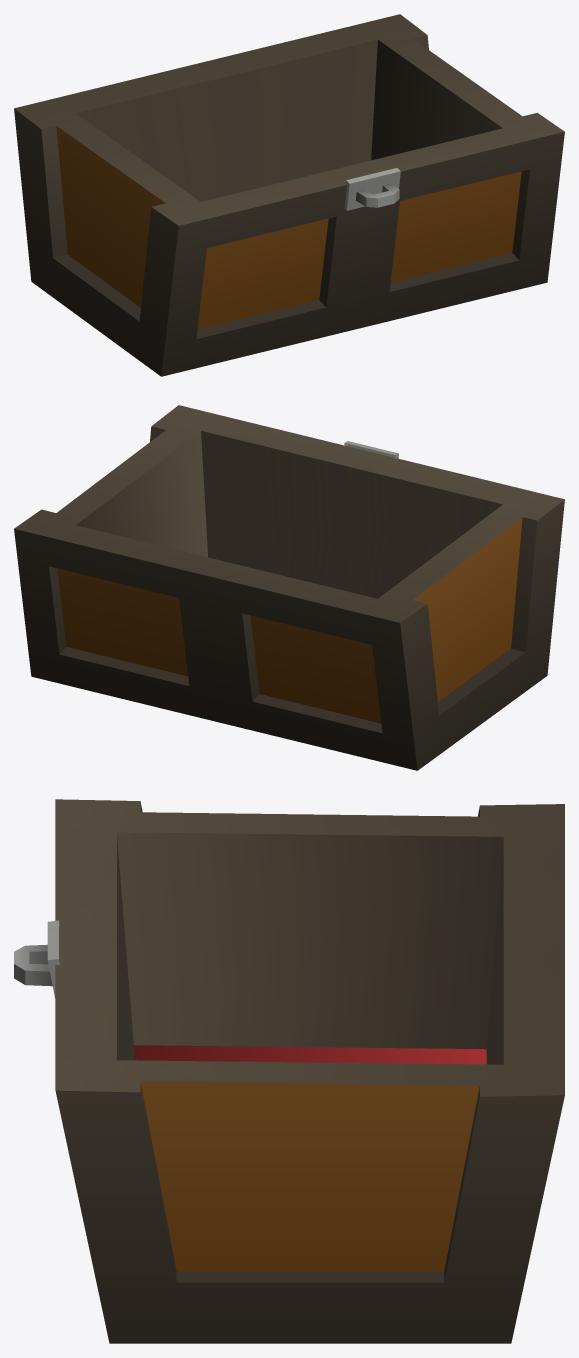
The model's file is Chest_Open.fbx.
The picture shows the model from 3 angles, top to bottom: view 1: azimuth 30°, elevation 25°; view 2: azimuth 150°, elevation 25°; view 3: azimuth 270°, elevation 25°; orthographic projection. The views are drawn at different scales.
Parts seen in each view (by area): view 1: Chest_Open; view 2: Chest_Open; view 3: Chest_Open.
Boxes of the visible parts, box(x1,y1,x2,y2) form: Chest_Open: box(14, 14, 564, 376); Chest_Open: box(14, 405, 564, 770); Chest_Open: box(14, 799, 564, 1343).
Size of the model in its own units: 103 by 42.48 by 81.94.
